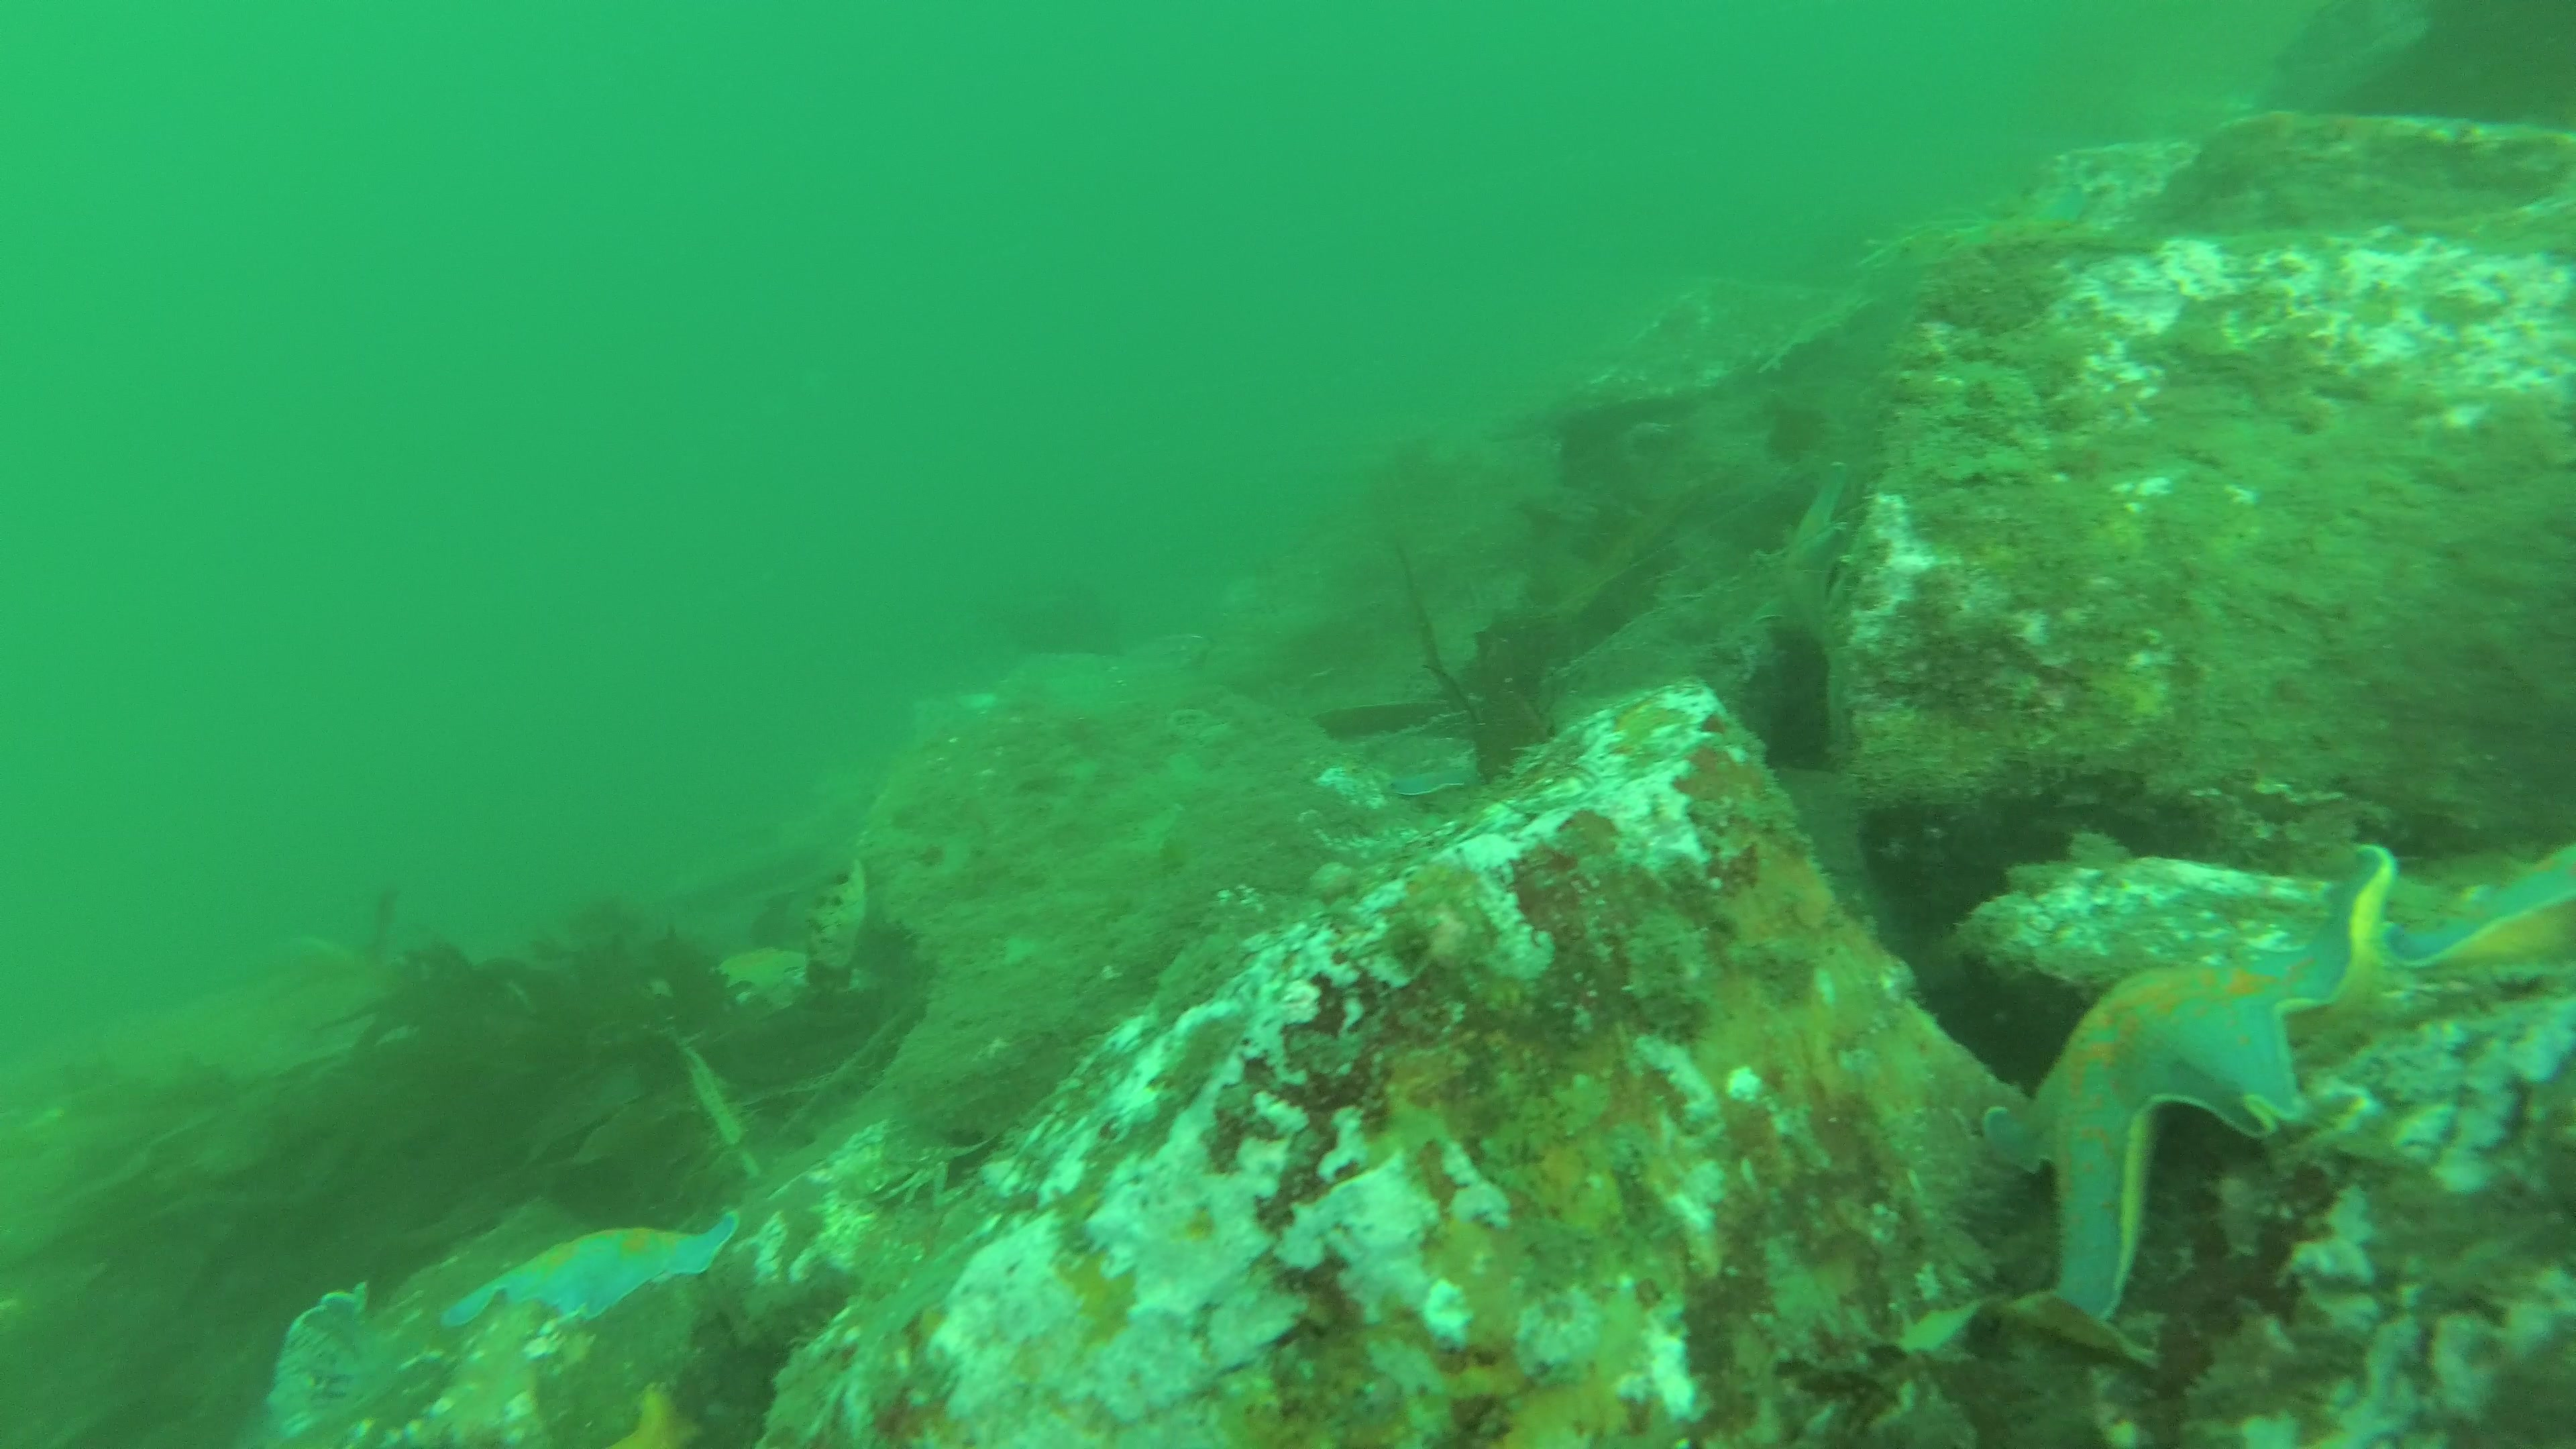starfish: (1978, 840, 2401, 1341), (439, 1210, 743, 1329), (2387, 849, 2576, 980), (1759, 460, 1863, 648), (674, 945, 874, 1010)
